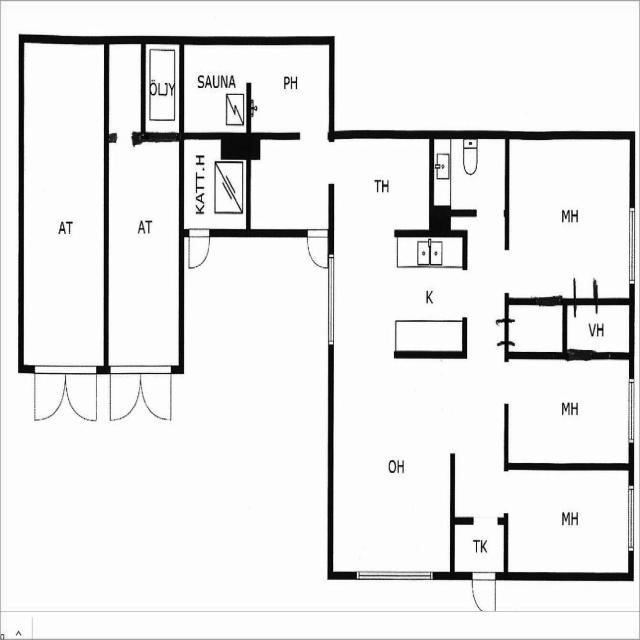door: (470, 570, 499, 616), (305, 227, 330, 272), (186, 227, 211, 271)
window: (356, 563, 436, 585), (323, 256, 338, 346), (624, 204, 638, 289), (624, 478, 638, 557), (624, 373, 638, 447), (500, 356, 512, 409), (470, 512, 502, 527)
zone: (18, 34, 108, 373), (330, 355, 452, 578), (507, 138, 632, 298), (107, 128, 182, 367), (328, 231, 466, 360), (507, 354, 632, 466), (508, 468, 630, 578), (332, 137, 432, 233), (250, 133, 332, 233), (247, 43, 332, 138), (109, 41, 180, 134), (183, 136, 251, 232), (182, 43, 246, 134), (432, 137, 507, 212), (104, 364, 176, 429), (31, 364, 102, 429), (565, 302, 633, 356), (108, 42, 142, 138), (506, 302, 565, 355), (148, 40, 180, 136), (452, 520, 506, 575)
